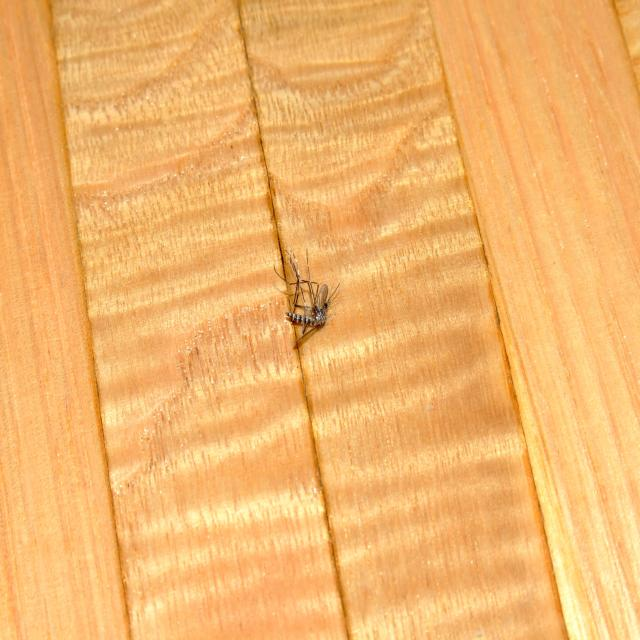albopictus: (270, 239, 338, 340)
